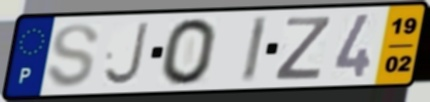4: (331, 11, 373, 82)
I: (239, 14, 271, 85)
J: (101, 19, 151, 88)
O: (158, 16, 219, 88)
S: (44, 21, 102, 90)
Z: (271, 15, 334, 82)
